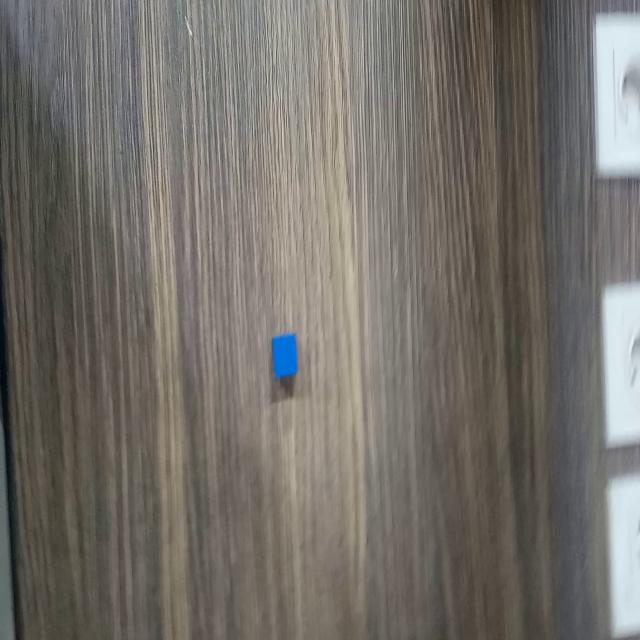cube: (269, 328, 299, 379)
